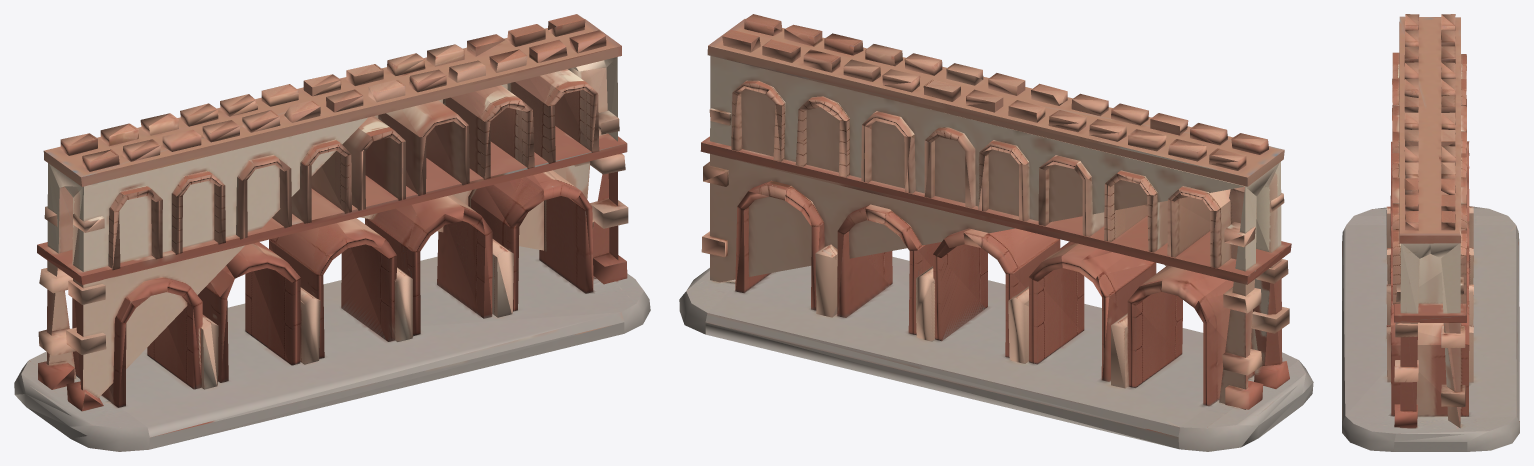
The model's file is bozdogan_kemeri.glb.
3 renders of one model, left to right at view 1: azimuth 30°, elevation 25°; view 2: azimuth 150°, elevation 25°; view 3: azimuth 270°, elevation 25°, orthographic. The views are drawn at different scales.
Parts seen in each view (by area): view 1: mesh_node; view 2: mesh_node; view 3: mesh_node.
Boxes of the visible parts, x1,y1,x2,y2 form: mesh_node: [14, 14, 650, 451]; mesh_node: [679, 14, 1313, 451]; mesh_node: [1342, 14, 1519, 451].
Size of the model in its own units: 1 by 0.4463 by 0.3271.
Materials: 1 (1 with a texture image).
